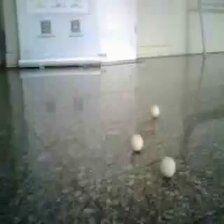tennis: (206, 107, 224, 132), (143, 76, 156, 93), (84, 64, 95, 79), (159, 60, 169, 75)
